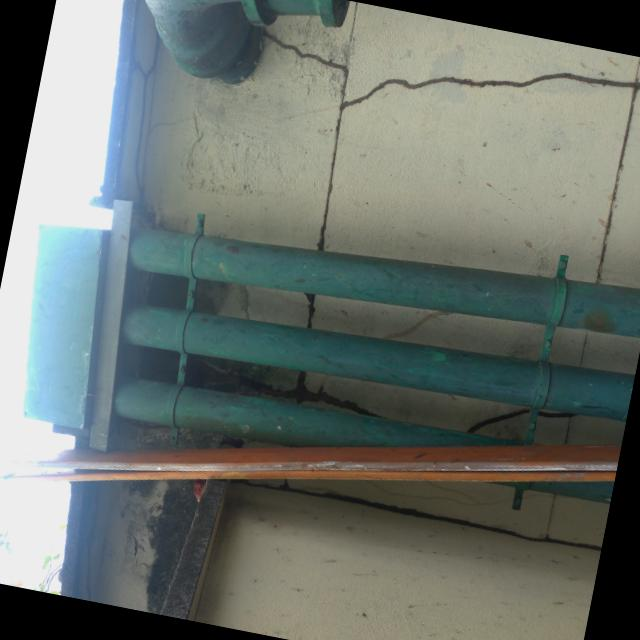gas: (123, 184, 640, 366), (121, 272, 636, 442), (110, 366, 435, 491)
